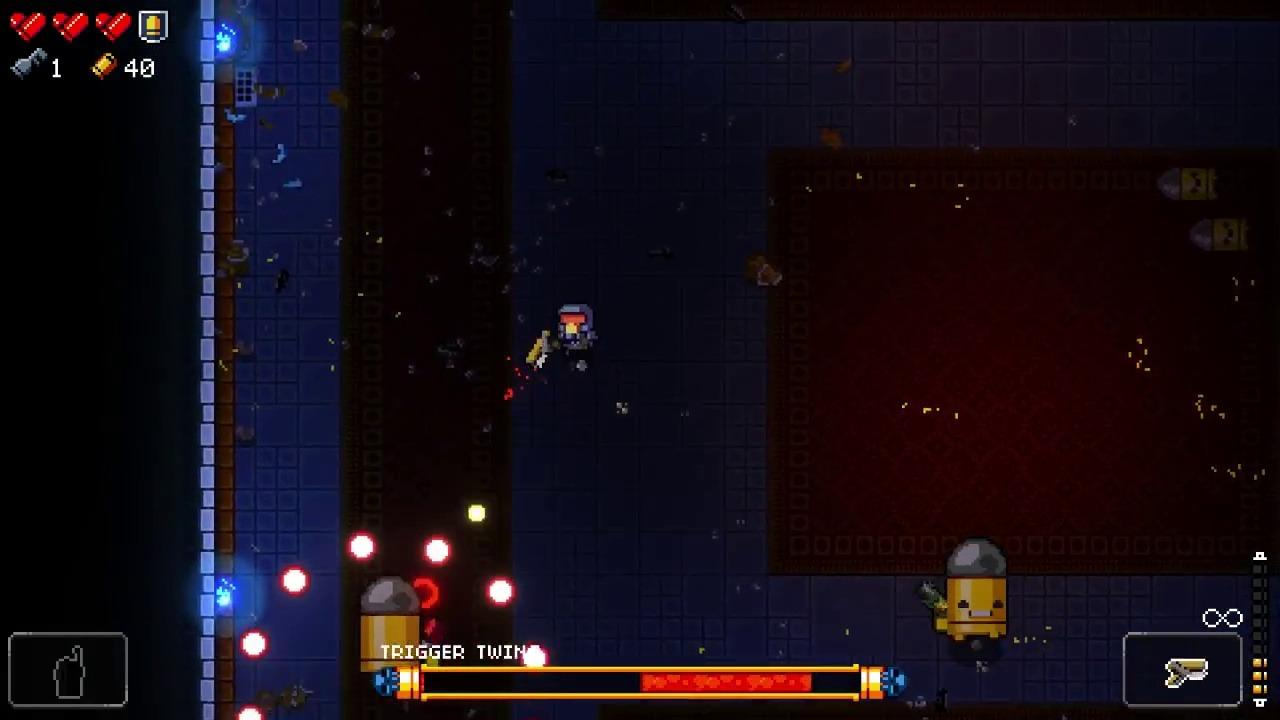boss_shades: (360, 576, 420, 679)
boss_smiley: (945, 538, 1007, 643)
bullet: (424, 534, 452, 569), (485, 576, 516, 607), (238, 631, 269, 661), (281, 566, 309, 597), (348, 533, 376, 562), (521, 645, 549, 665), (238, 704, 265, 720)
dead_bullet_kin: (1192, 218, 1251, 254), (1158, 168, 1218, 202)
player: (557, 303, 597, 355)
